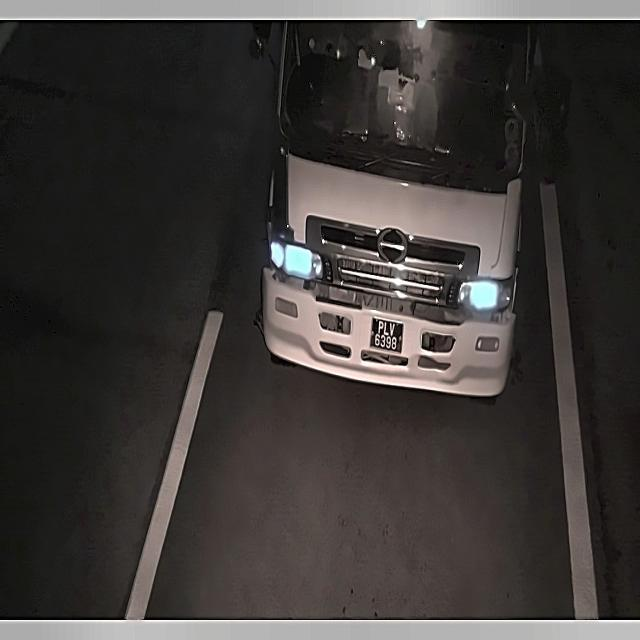car: (365, 303, 413, 363)
